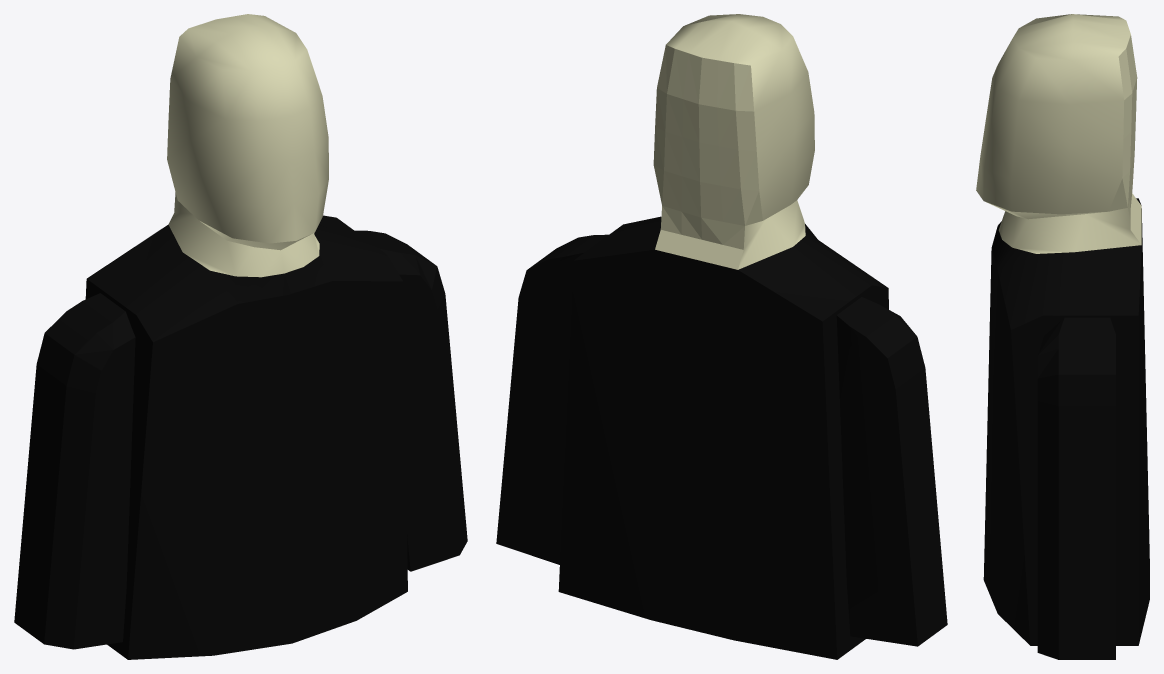
File: android_1.FBX
3 views of the same model, side by side, from view 1: azimuth 30°, elevation 25°; view 2: azimuth 150°, elevation 25°; view 3: azimuth 270°, elevation 25° (orthographic). The views are drawn at different scales.
Parts seen in each view (by area): view 1: android_2; view 2: android_2; view 3: android_2.
Boxes of the visible parts, <box> form: android_2: <box>14,14,467,659</box>; android_2: <box>496,14,947,659</box>; android_2: <box>976,14,1149,659</box>.
Bounding box in the file's own units: 47.7 × 62.68 × 17.64.
